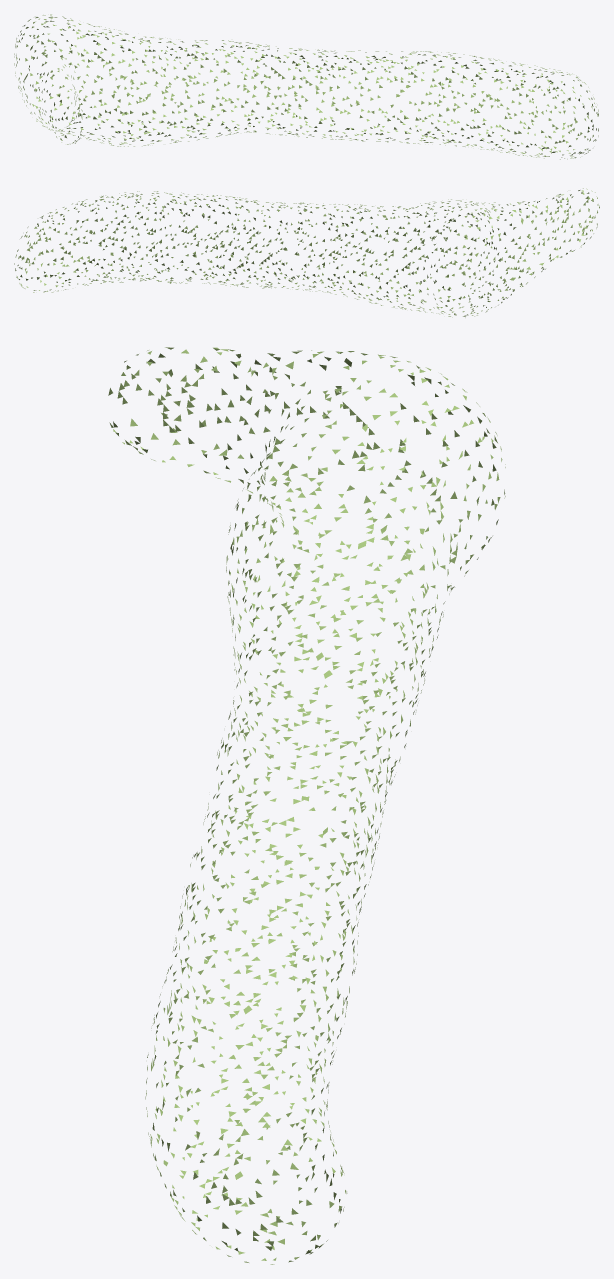
File: morph_012.glb
3 renders of one model, top to bottom at view 1: azimuth 30°, elevation 25°; view 2: azimuth 150°, elevation 25°; view 3: azimuth 270°, elevation 25°, orthographic. The views are drawn at different scales.
Size of the model in its own units: 116 by 45.03 by 36.88.
